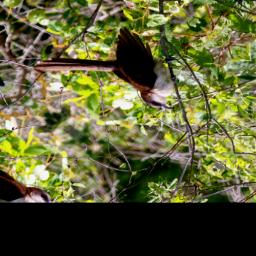Cuckoo: (52, 22, 211, 142)
